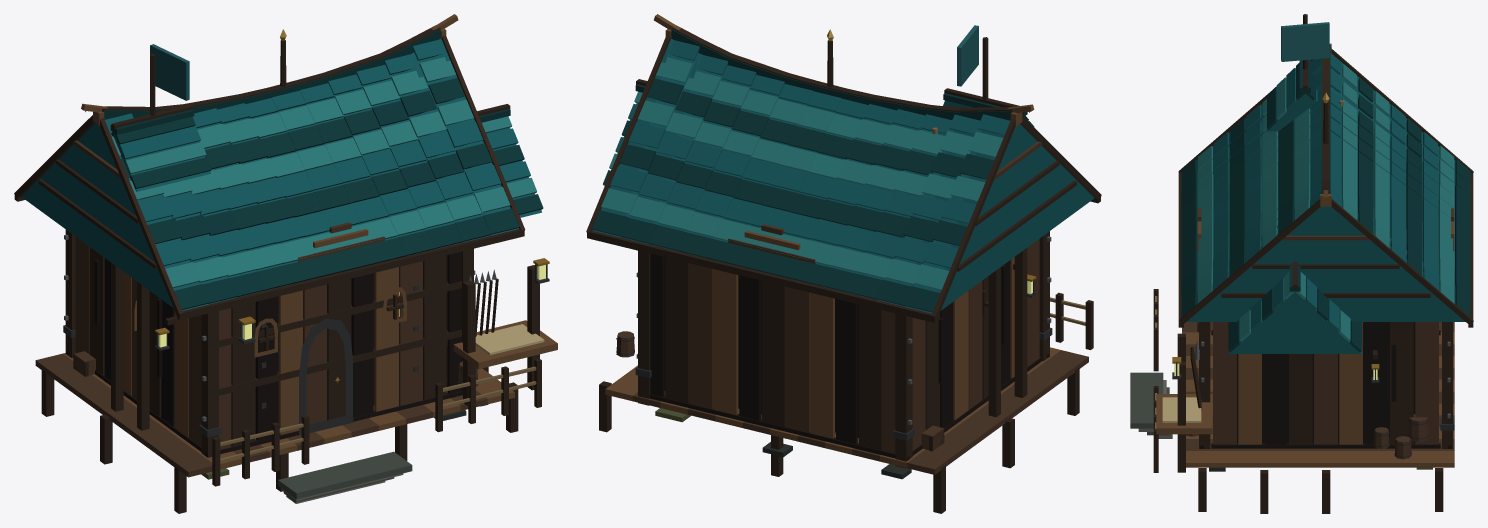
File: fenbridge_scout_lodge.glb
3 renders of one model, left to right at view 1: azimuth 30°, elevation 25°; view 2: azimuth 150°, elevation 25°; view 3: azimuth 270°, elevation 25°, orthographic. The views are drawn at different scales.
Visible parts, largest first — view 1: FenbridgeScoutLodge_FenbridgeOpaque; view 2: FenbridgeScoutLodge_FenbridgeOpaque; view 3: FenbridgeScoutLodge_FenbridgeOpaque.
Boxes of the visible parts, x1,y1,x2,y2 form: FenbridgeScoutLodge_FenbridgeOpaque: (14,14,557,513); FenbridgeScoutLodge_FenbridgeOpaque: (586,14,1101,513); FenbridgeScoutLodge_FenbridgeOpaque: (1130,14,1473,513).
Size of the model in its own units: 8 by 7.6 by 6.5.
